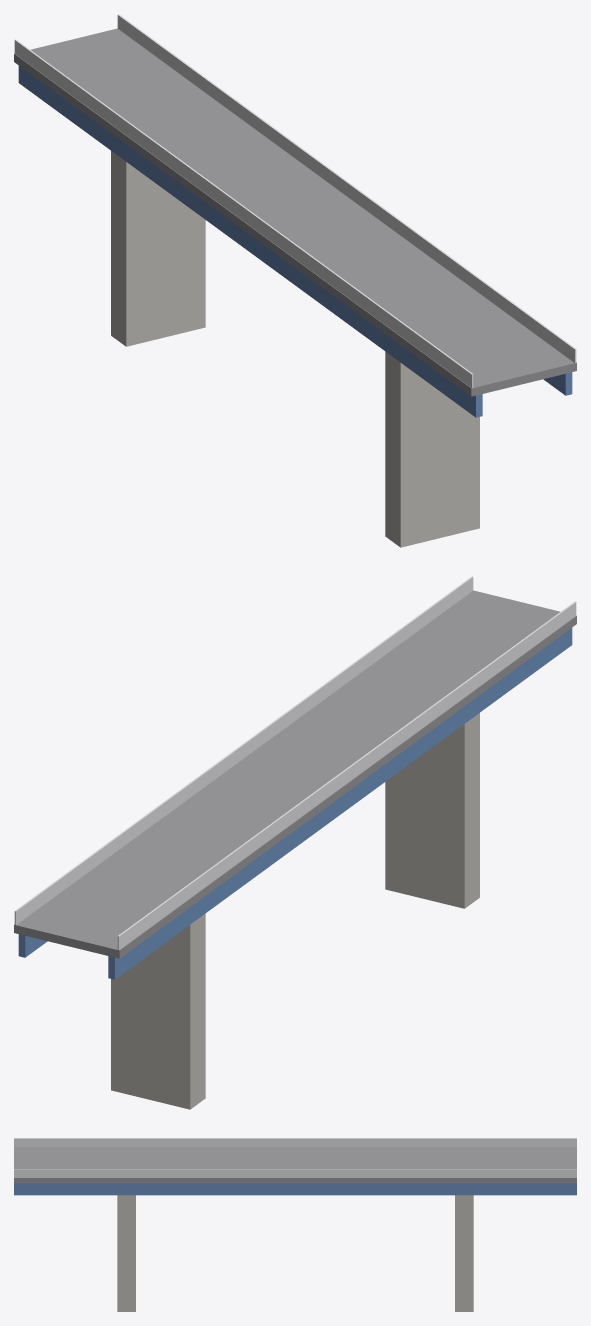
Rendered from bridge-segment.glb.
3 views of the same model, one above another, from view 1: azimuth 30°, elevation 25°; view 2: azimuth 150°, elevation 25°; view 3: azimuth 270°, elevation 25° (orthographic). The views are drawn at different scales.
Parts seen in each view (by area): view 1: Deck_Road, Pier_0, Pier_1, Girder_L, Railing_L, Railing_R; view 2: Deck_Road, Pier_1, Pier_0, Girder_L, Railing_L, Railing_R; view 3: Deck_Road, Girder_R, Railing_L, Railing_R, Pier_0, Pier_1.
Boxes of the visible parts, x1,y1,x2,y2 form: Deck_Road: (14,28,576,396); Pier_0: (385,351,479,547); Pier_1: (111,151,205,346); Girder_L: (18,66,482,417); Railing_L: (14,39,473,388); Railing_R: (117,14,576,362); Deck_Road: (14,590,576,958); Pier_1: (111,913,205,1109); Pier_0: (385,713,479,908); Girder_L: (108,628,572,979); Railing_L: (117,601,576,950); Railing_R: (14,576,473,924); Deck_Road: (14,1147,576,1183); Girder_R: (14,1183,576,1195); Railing_L: (14,1138,576,1146); Railing_R: (14,1169,576,1177); Pier_0: (117,1195,135,1311); Pier_1: (455,1195,473,1311).
Bounding box in the file's own units: 8 × 17.2 × 60.
